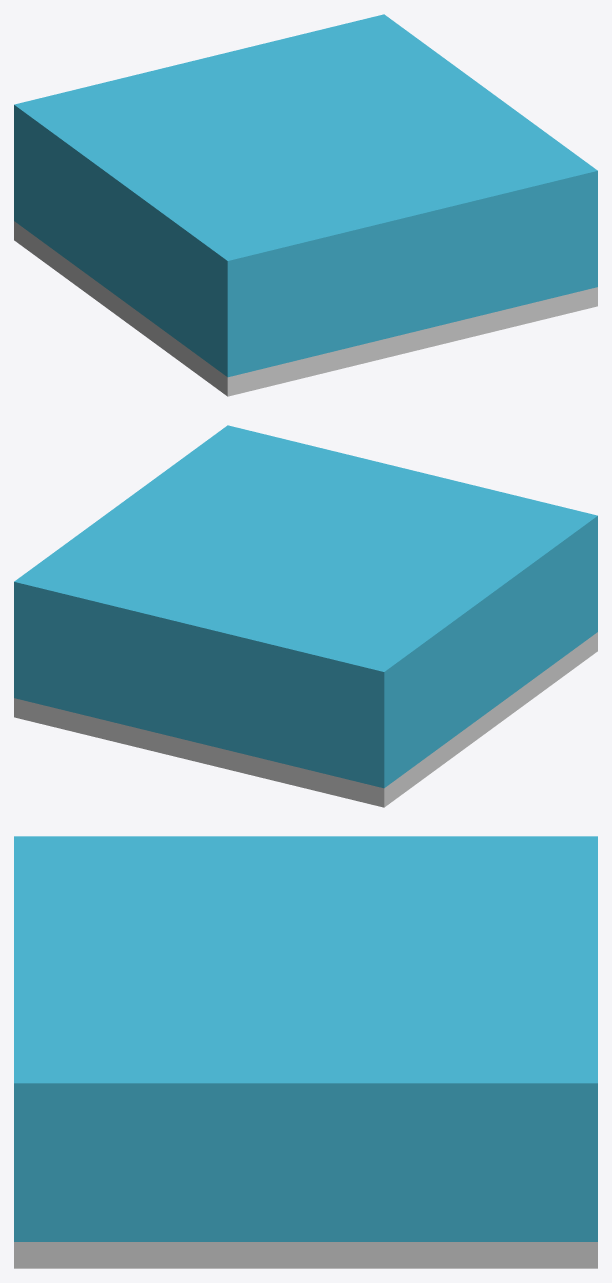
The model's file is Water.fbx.
3 views of the same model, one above another, from view 1: azimuth 30°, elevation 25°; view 2: azimuth 150°, elevation 25°; view 3: azimuth 270°, elevation 25° (orthographic). The views are drawn at different scales.
Parts seen in each view (by area): view 1: PortWater; view 2: PortWater; view 3: PortWater.
Part boxes in pixels (x1,y1,x2,y2): PortWater: [14, 14, 597, 396]; PortWater: [14, 425, 597, 807]; PortWater: [14, 836, 597, 1268].
Size of the model in its own units: 2 by 2 by 0.7.
